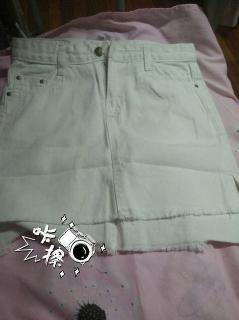skirt: (0, 37, 239, 257)
